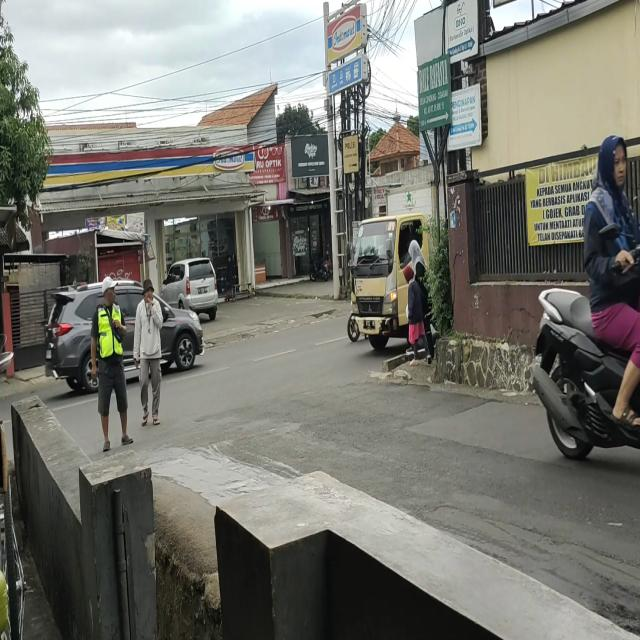no-helmet: (599, 137, 625, 192)
